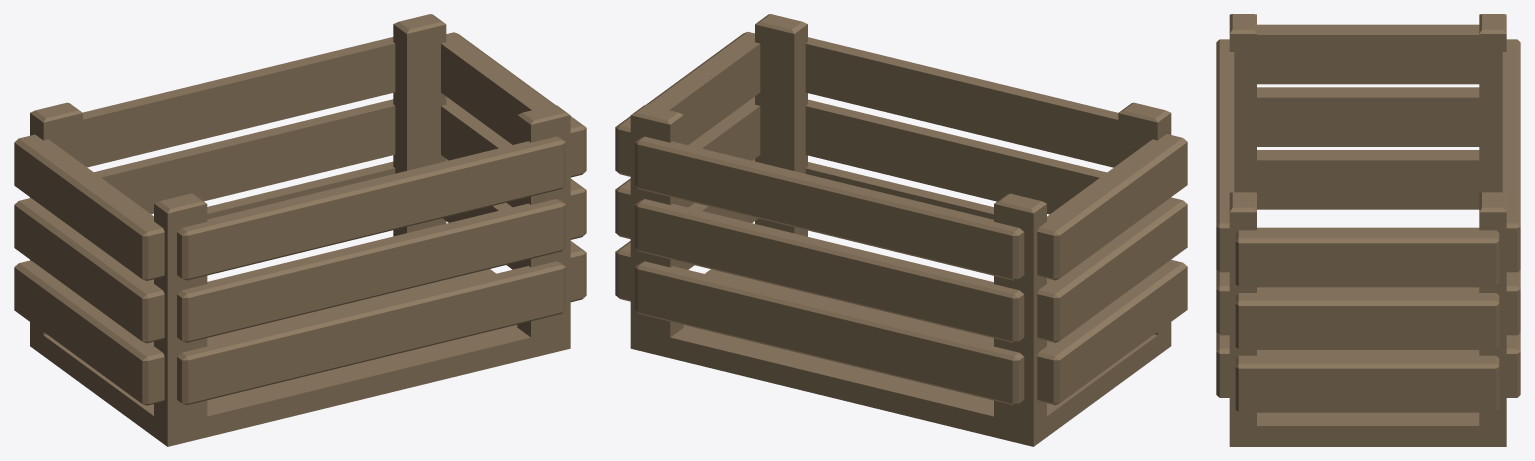
Rendered from LargeCrate_FBX.fbx.
3 renders of one model, left to right at view 1: azimuth 30°, elevation 25°; view 2: azimuth 150°, elevation 25°; view 3: azimuth 270°, elevation 25°, orthographic.
Parts seen in each view (by area): view 1: pCube30; view 2: pCube30; view 3: pCube30.
Part boxes in pixels (bbox=[...]): pCube30: bbox=[14, 14, 586, 446]; pCube30: bbox=[615, 14, 1187, 446]; pCube30: bbox=[1216, 14, 1520, 446].
Bounding box in the file's own units: 112 × 56.74 × 65.93.
